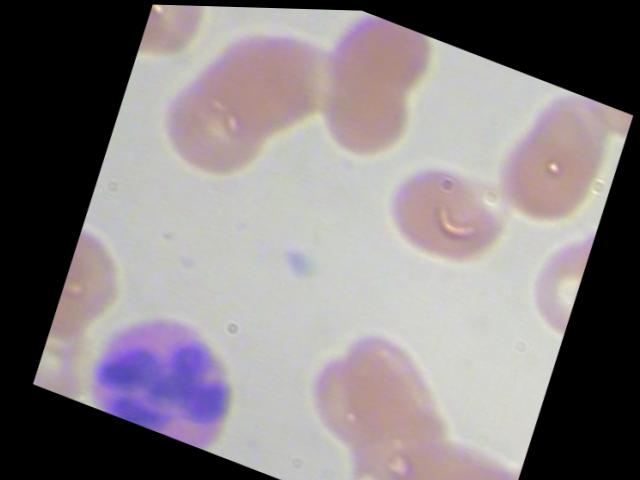Platelets: (265, 232, 319, 294)
Red Blood Cells: (478, 71, 620, 241), (139, 58, 291, 199), (366, 140, 517, 281), (295, 52, 425, 171), (310, 7, 441, 121)
White Blood Cells: (62, 265, 274, 459)
